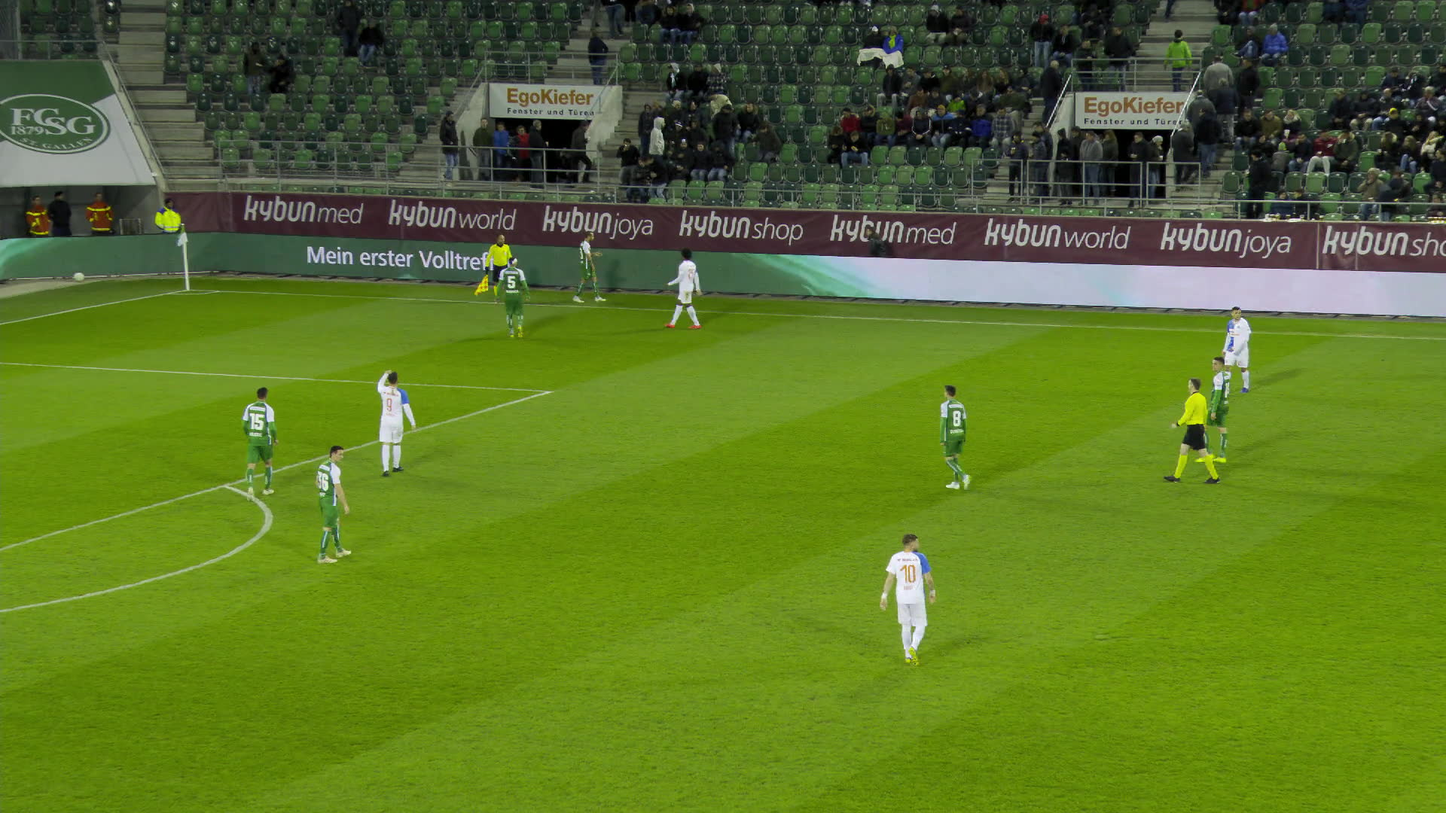ball: (76, 269, 87, 279)
player: (881, 536, 927, 662), (240, 386, 284, 497), (313, 448, 352, 561), (934, 384, 975, 489), (376, 370, 417, 475), (1200, 355, 1240, 460), (1220, 306, 1257, 394), (664, 251, 702, 327), (494, 257, 529, 335), (574, 232, 605, 301)
referee: (1162, 376, 1214, 482), (482, 234, 517, 296)
